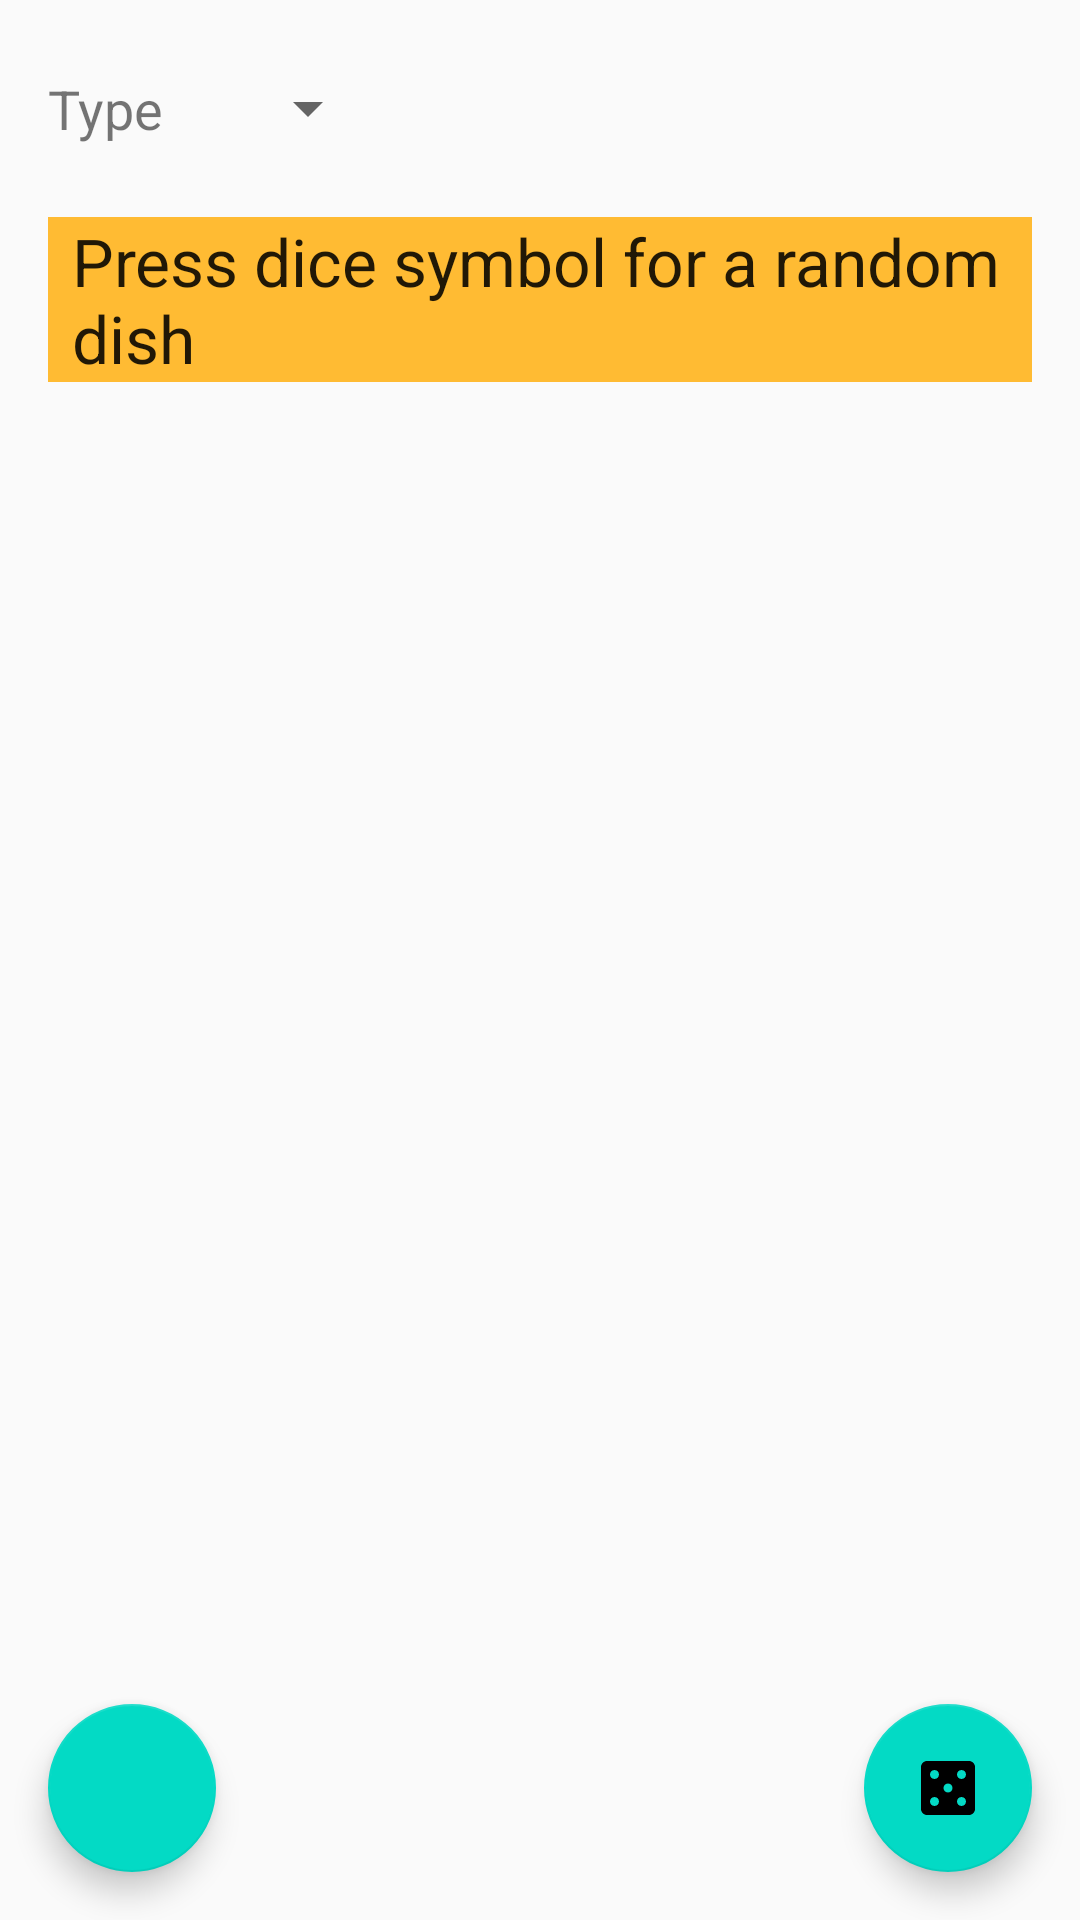

Where icons sit on this 1080px x 1920px app screen, as Rect(x1, y1, x2, y2):
Rand dish: Rect(864, 1704, 1032, 1872)
